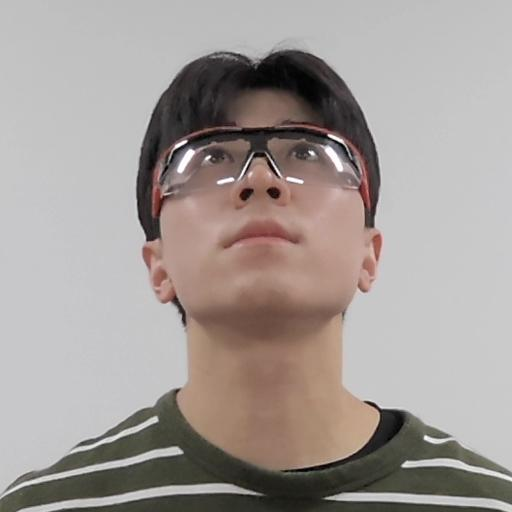glasses: (120, 45, 403, 372)
